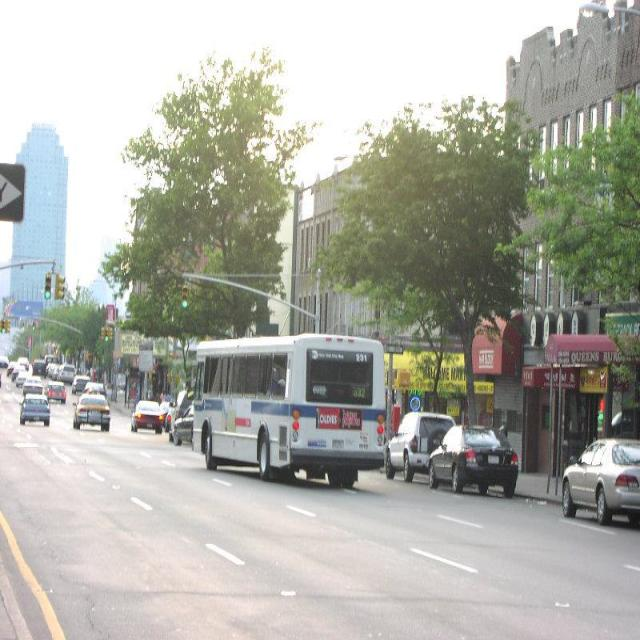Bus: (193, 334, 385, 488)
